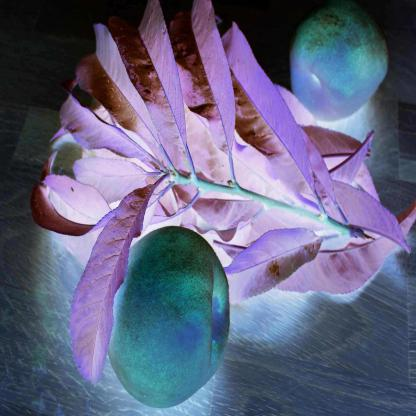peach leaf: (67, 177, 166, 389), (214, 3, 320, 200), (118, 0, 194, 151), (179, 5, 240, 162), (81, 38, 163, 151), (223, 226, 325, 302), (60, 81, 156, 161), (72, 153, 149, 206)
